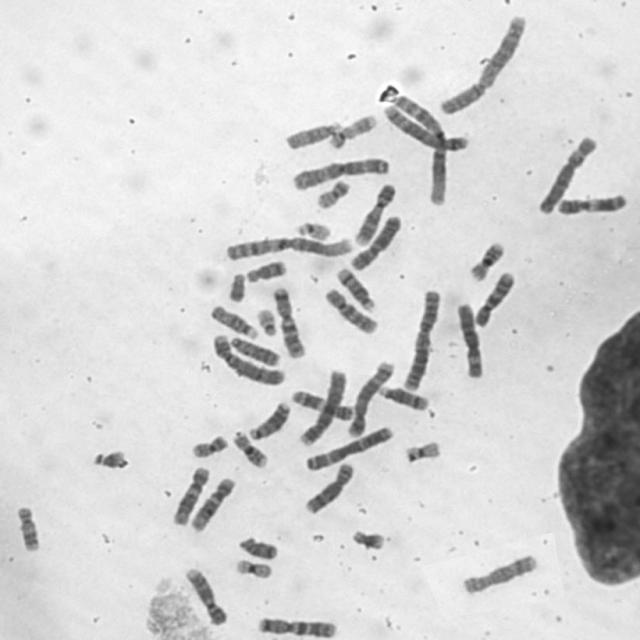A1: (386, 92, 449, 205), (220, 231, 356, 262)
A2: (435, 11, 530, 117), (399, 285, 443, 393)
A3: (302, 424, 394, 473), (287, 154, 392, 192)
B4: (209, 329, 288, 387), (294, 365, 348, 447)
B5: (382, 102, 471, 153), (344, 357, 396, 438)
C10: (318, 281, 382, 337), (470, 266, 519, 328)
C11: (286, 387, 354, 421), (554, 189, 628, 217)
C12: (187, 472, 240, 533), (169, 462, 212, 527)
C6: (534, 130, 601, 216), (453, 298, 486, 380)
C7: (269, 282, 307, 359), (254, 610, 342, 638)
C8: (460, 550, 539, 596), (301, 458, 357, 516)
C9: (351, 180, 399, 248), (181, 563, 229, 627)
D13: (245, 397, 293, 442), (226, 333, 282, 368)
D14: (332, 264, 378, 312), (374, 382, 431, 412)
D15: (206, 300, 259, 340), (282, 118, 343, 150)
E16: (464, 237, 506, 281), (229, 428, 269, 470)
E17: (326, 110, 380, 149), (13, 501, 42, 553)
E18: (243, 256, 290, 284), (234, 533, 280, 561)
F19: (401, 436, 444, 464), (231, 555, 275, 580)
F20: (311, 174, 353, 210), (187, 430, 231, 460)
G21: (88, 444, 131, 471), (347, 524, 388, 552)
G22: (253, 304, 280, 338), (293, 218, 333, 240)
X: (346, 210, 404, 272)
Y: (223, 269, 248, 304)
